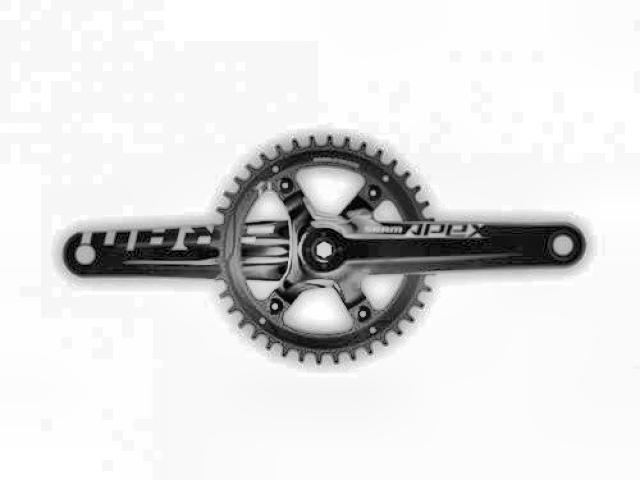cranks_set: (208, 136, 586, 360)
